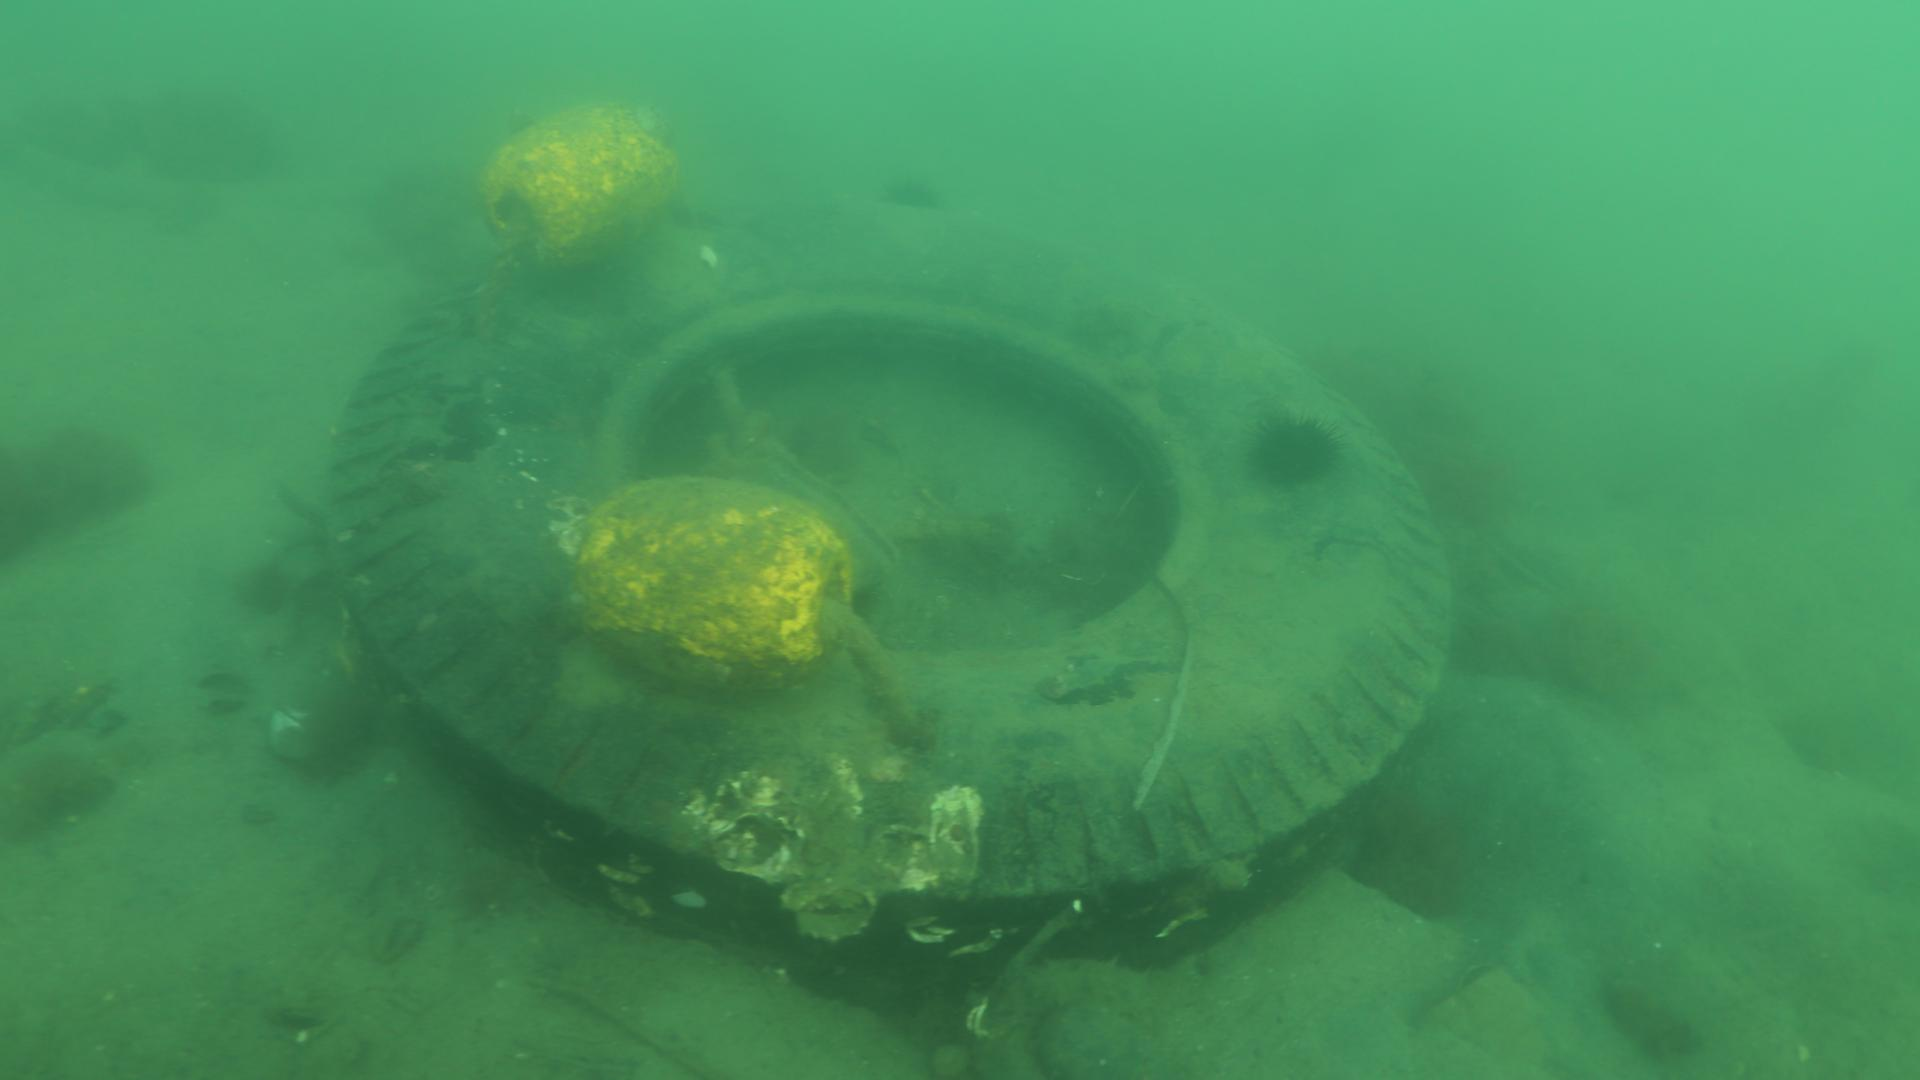tire: (326, 196, 1453, 1019)
